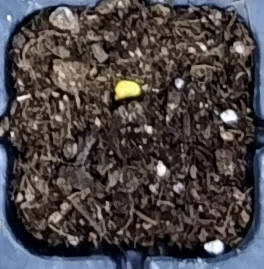pepper seed: (41, 31, 183, 131)
